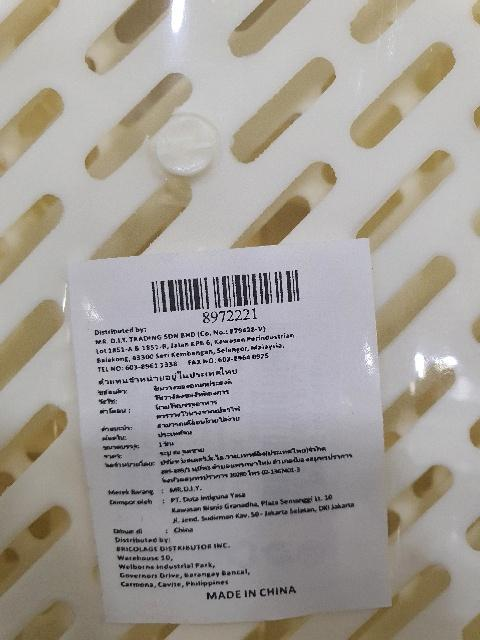Barcode: (136, 263, 314, 325)
